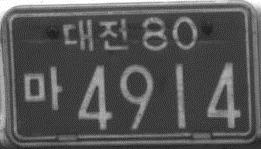0: (172, 15, 198, 51)
1: (168, 61, 192, 130)
4: (203, 59, 245, 134), (76, 63, 111, 130)
8: (139, 15, 168, 52)
9: (117, 63, 153, 129)
대전_O: (60, 18, 130, 52)
마: (22, 65, 64, 112)
